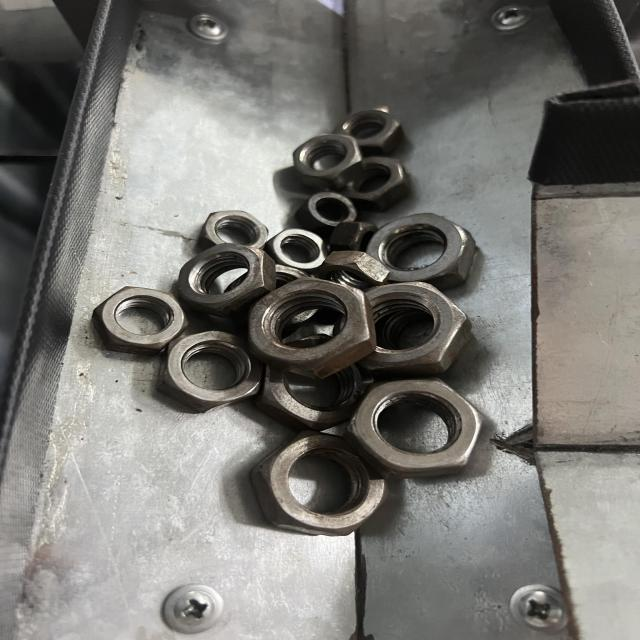nut: (248, 424, 386, 538), (349, 377, 488, 479), (241, 277, 375, 376), (92, 286, 188, 354), (293, 131, 362, 182)
